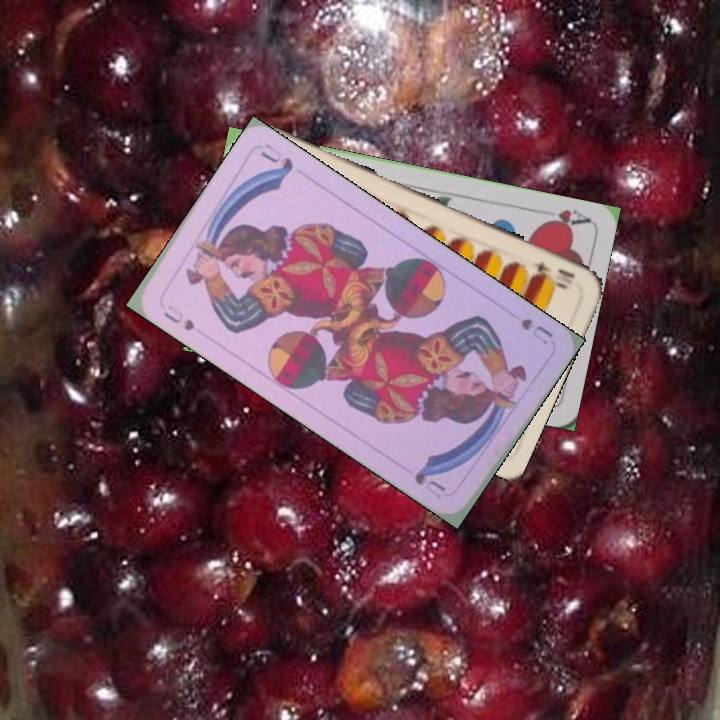E10: (528, 257, 577, 292)
HA: (536, 205, 592, 232)
SU: (516, 314, 556, 348), (159, 300, 198, 334)
